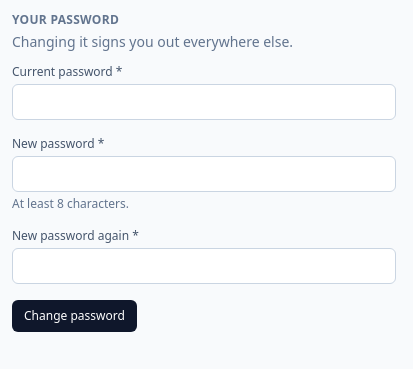
Test case: Password settings › says so when the current password is wrong
In the password field labelled "Current password *": (204, 102) top-left (12, 84), bottom-right (396, 120), type "guess"
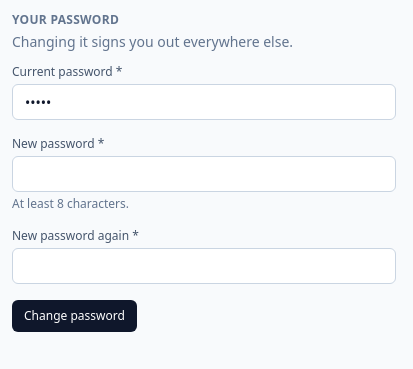
In the password field named "New password (": (204, 174) top-left (12, 156), bottom-right (396, 192), type "a new password"
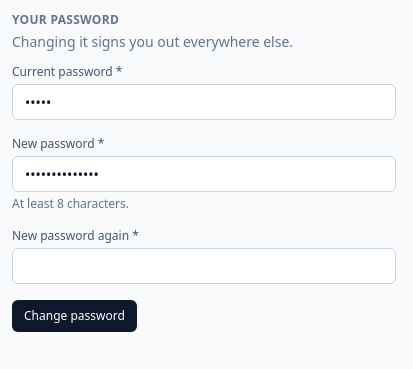
In the password field labelled "New password again *": (204, 266) top-left (12, 248), bottom-right (396, 284), type "a new password"
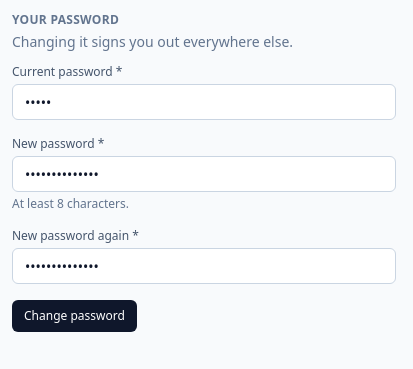
Click the button "Change password": click(74, 316) top-left (12, 300), bottom-right (137, 332)
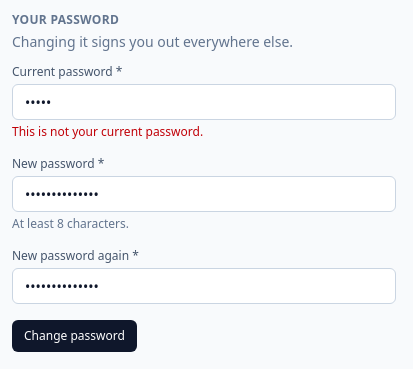
Check: the text "This is not your current password." is shown, box top-left (12, 123), bottom-right (203, 140)
